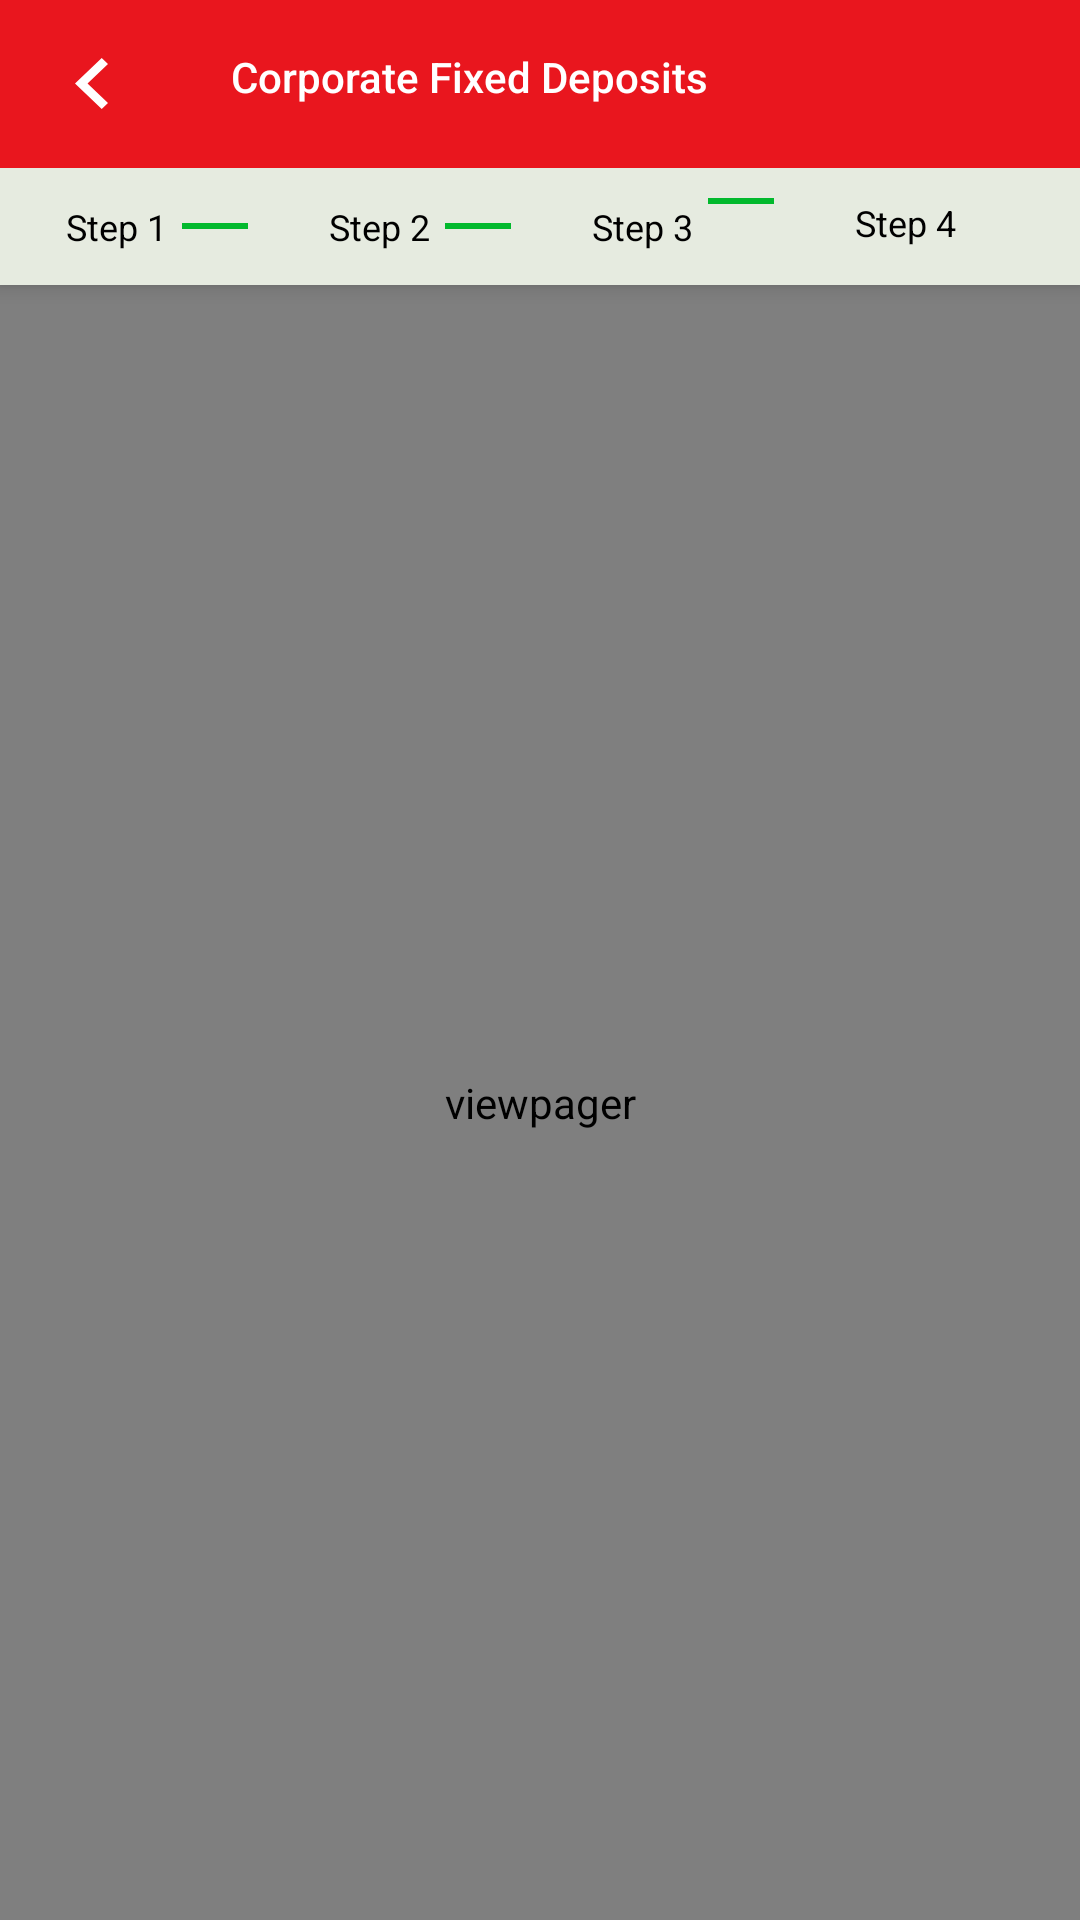

Icons on this 1080 × 1920 Android screen, each with its box as (x1, y1, x2, y2):
Back: (75, 58, 108, 109)
